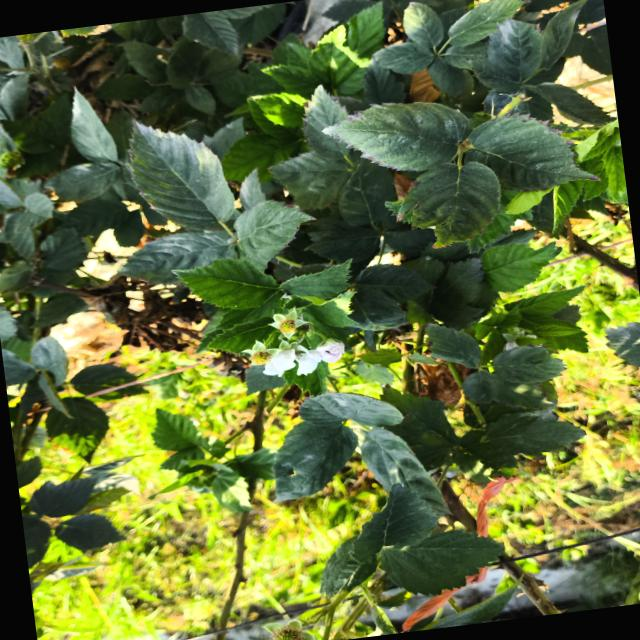flor: (264, 348, 296, 376), (296, 349, 322, 375), (316, 340, 344, 363)
